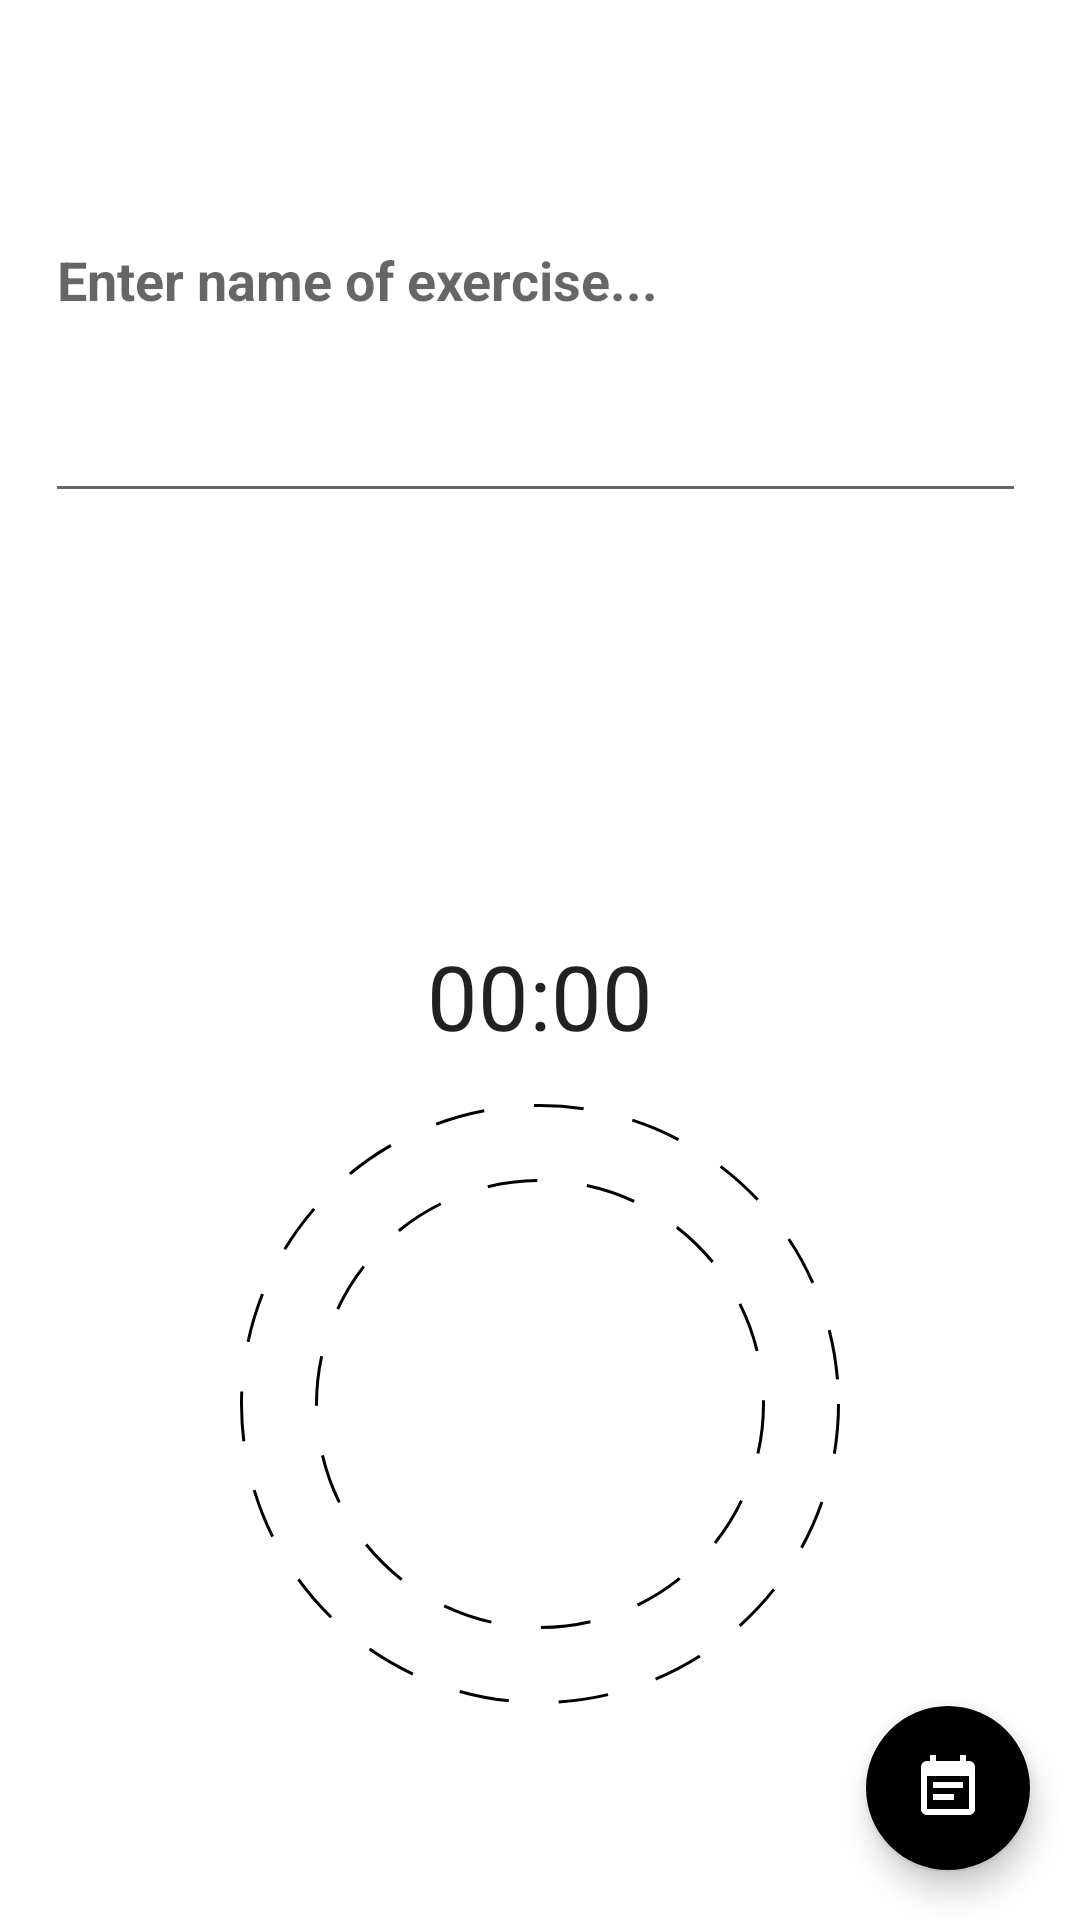

Screen size 1080px x 1920px. Icon name, then its box in pixels as (x1, y1, x2, y2):
Event List: (866, 1706, 1032, 1872)
